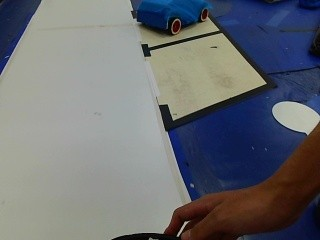car: (131, 1, 212, 36)
